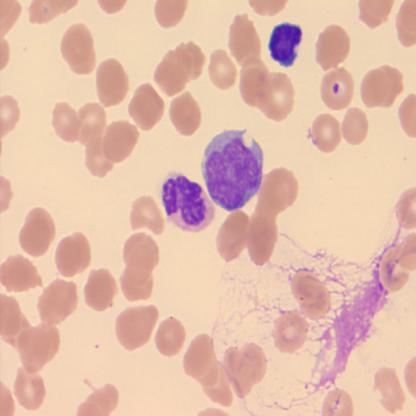Blast: (200, 125, 267, 211), (160, 170, 217, 235), (268, 20, 303, 70)
